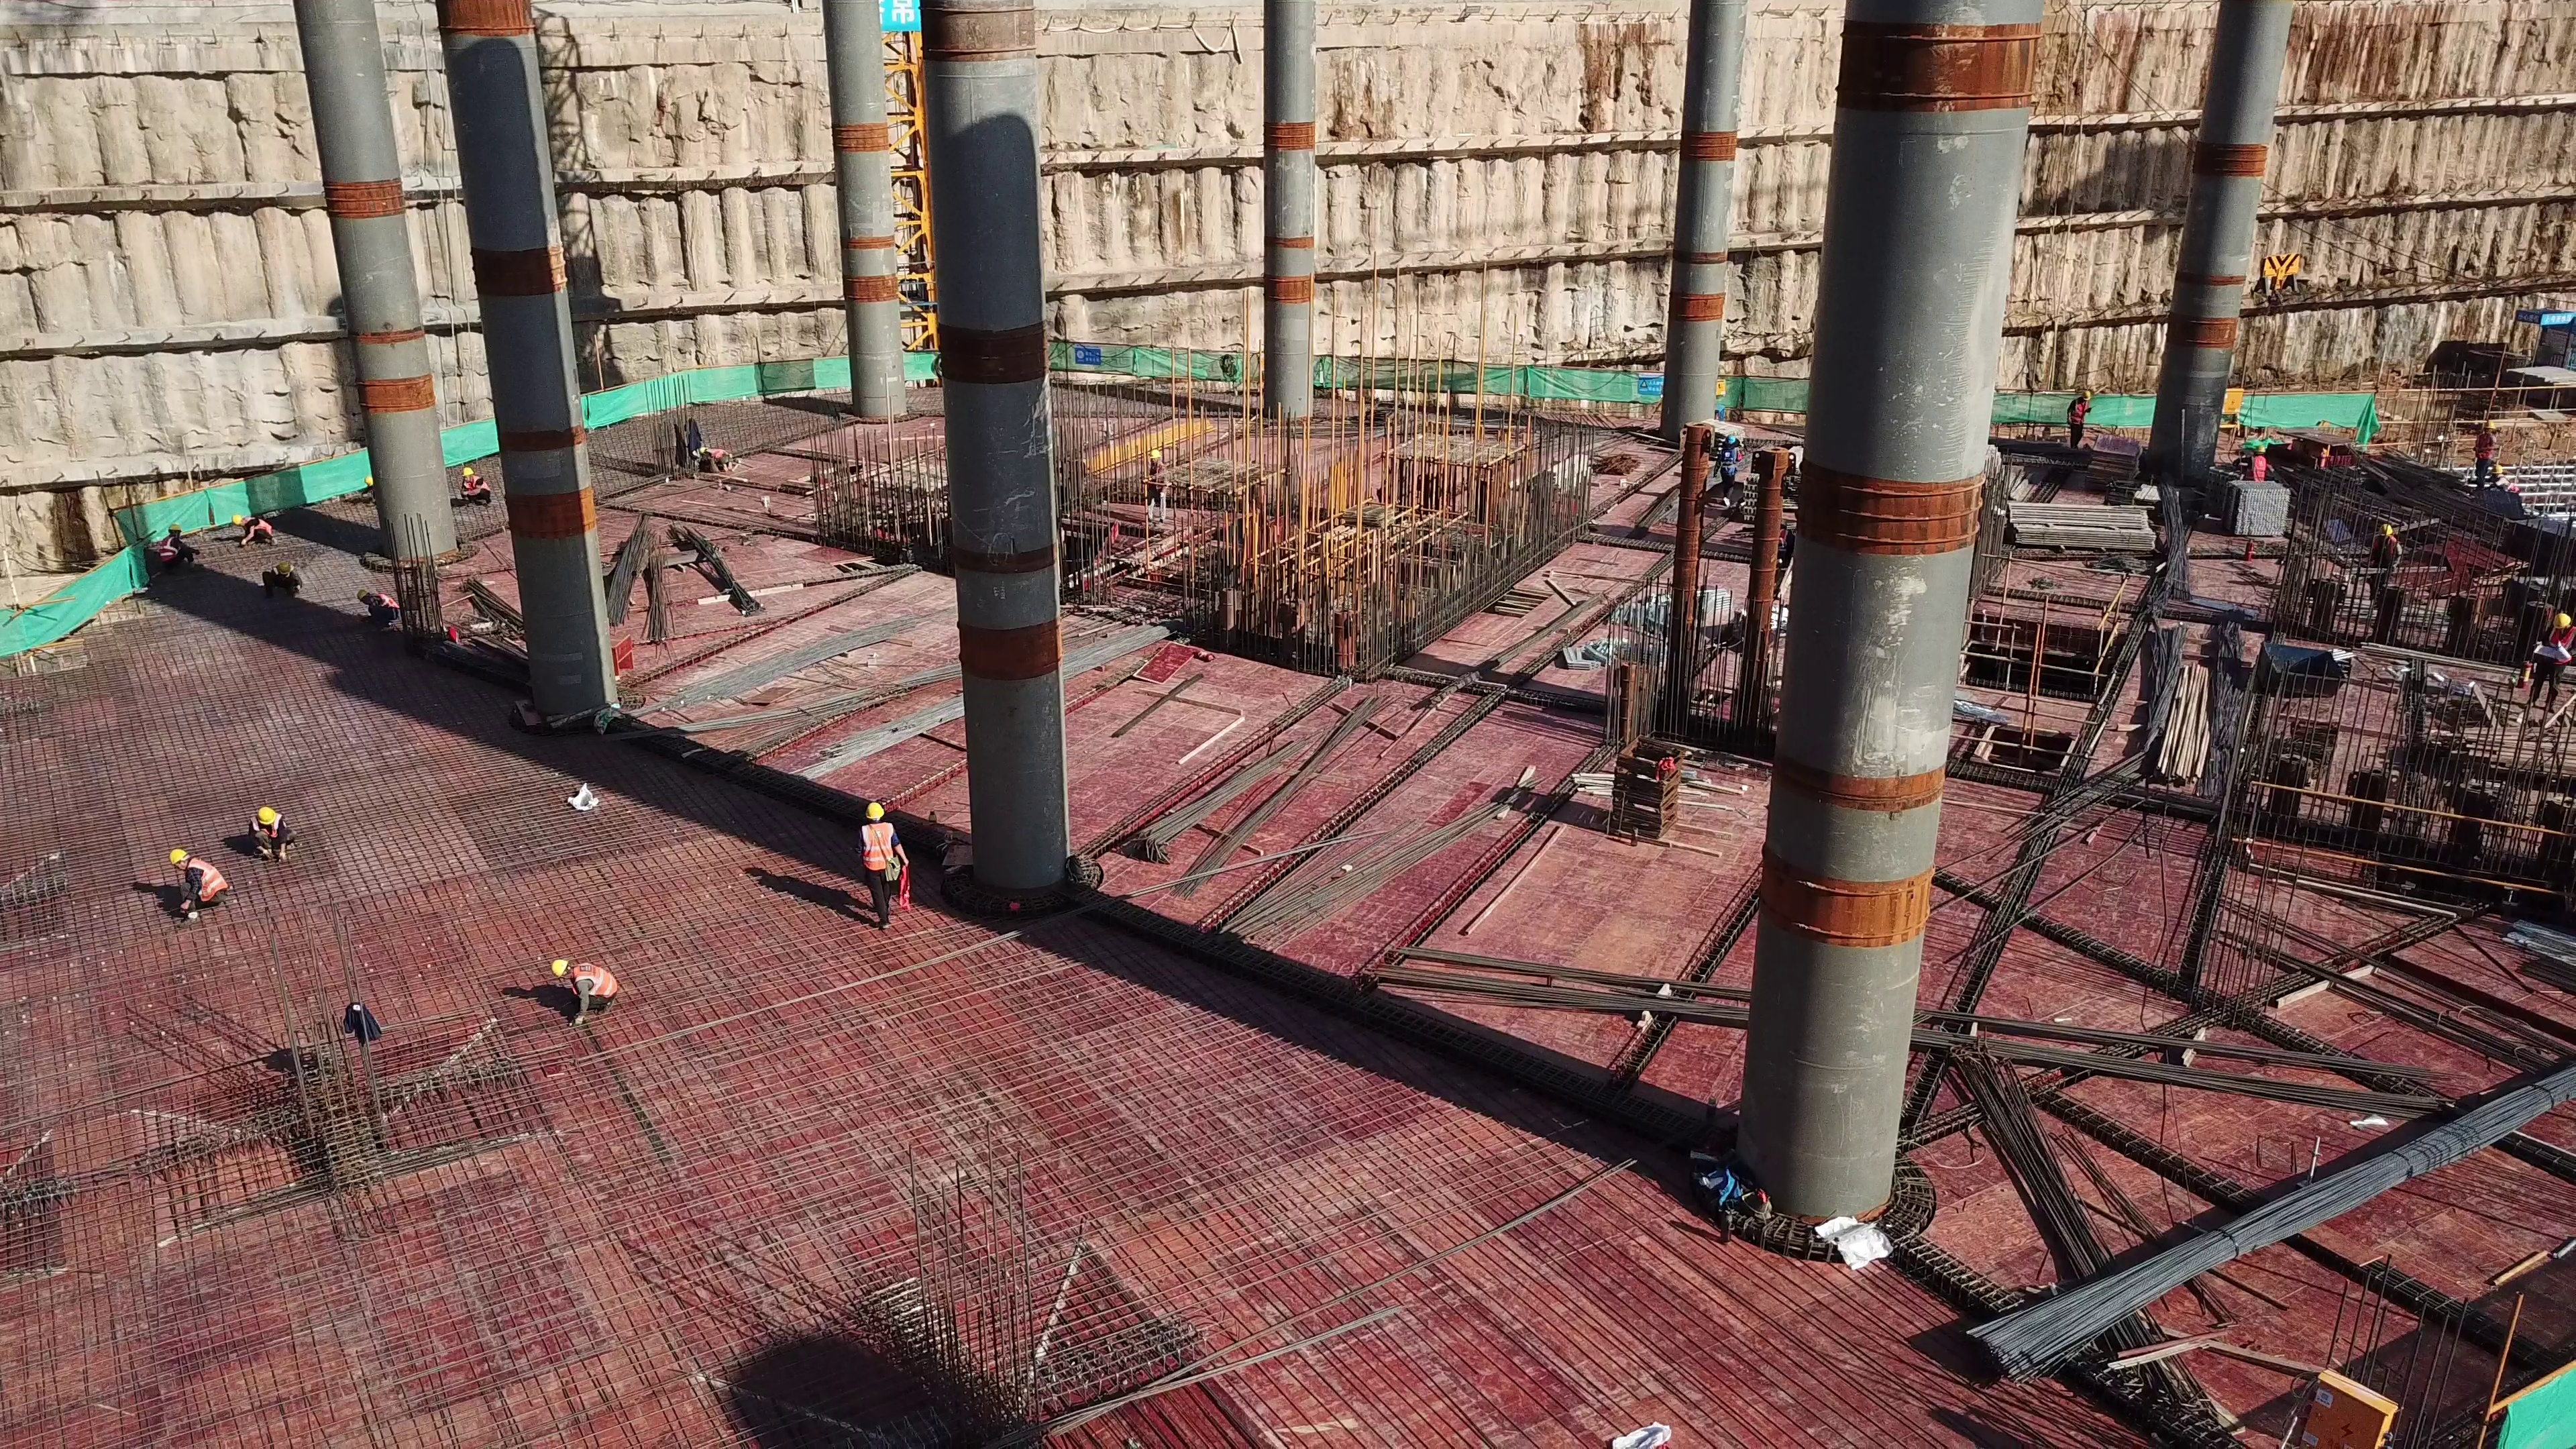helmet: (864, 802, 889, 820), (170, 847, 191, 869), (2551, 610, 2573, 631), (258, 804, 277, 827), (549, 958, 569, 979), (2376, 520, 2394, 537), (278, 561, 295, 575), (1727, 432, 1739, 445), (2079, 388, 2094, 400), (2255, 443, 2271, 455), (358, 588, 370, 600), (1148, 449, 1162, 460), (2483, 419, 2499, 429), (168, 523, 184, 533), (463, 464, 475, 476), (232, 513, 241, 524)
person: (832, 790, 921, 926), (535, 948, 631, 1028), (157, 847, 233, 922), (2532, 608, 2575, 729), (241, 799, 305, 869), (1707, 430, 1743, 507), (2369, 519, 2402, 600), (352, 584, 403, 637), (1139, 447, 1174, 523), (156, 515, 201, 573), (256, 558, 313, 602), (2471, 417, 2500, 490), (229, 508, 278, 549), (2065, 386, 2097, 449), (453, 460, 496, 506), (2239, 442, 2273, 482)
vest: (572, 958, 620, 998), (861, 822, 898, 871), (189, 857, 228, 900), (2543, 629, 2576, 663), (243, 514, 273, 532), (1719, 447, 1739, 474), (2475, 431, 2496, 459), (2065, 400, 2087, 421), (371, 590, 398, 609), (159, 537, 177, 563), (2249, 456, 2267, 481), (460, 480, 492, 492)
